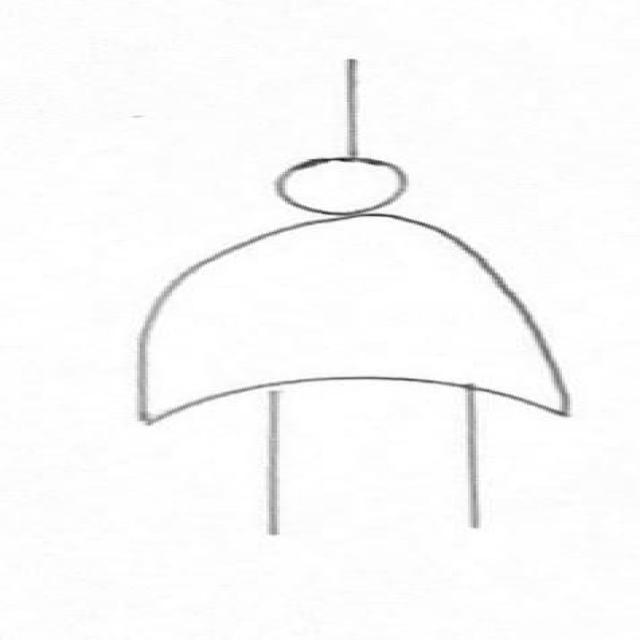NOR: (68, 148, 622, 448)
